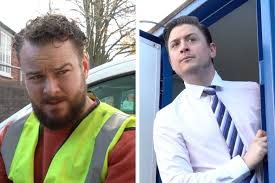vest: (9, 113, 134, 181)
